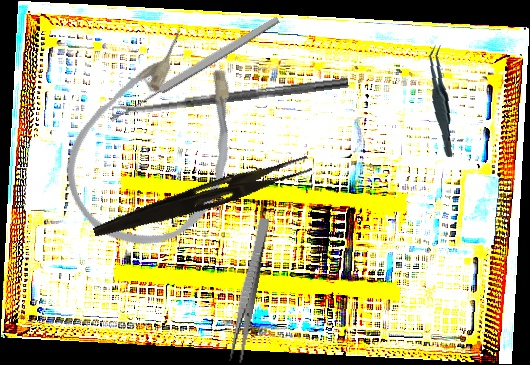Cannula: (41, 10, 279, 273)
Dressing Forceps: (91, 147, 313, 249), (227, 216, 271, 364)
Surgical Spoon: (108, 14, 281, 125), (111, 76, 349, 117)
Tissue Forceps: (420, 44, 463, 158)
